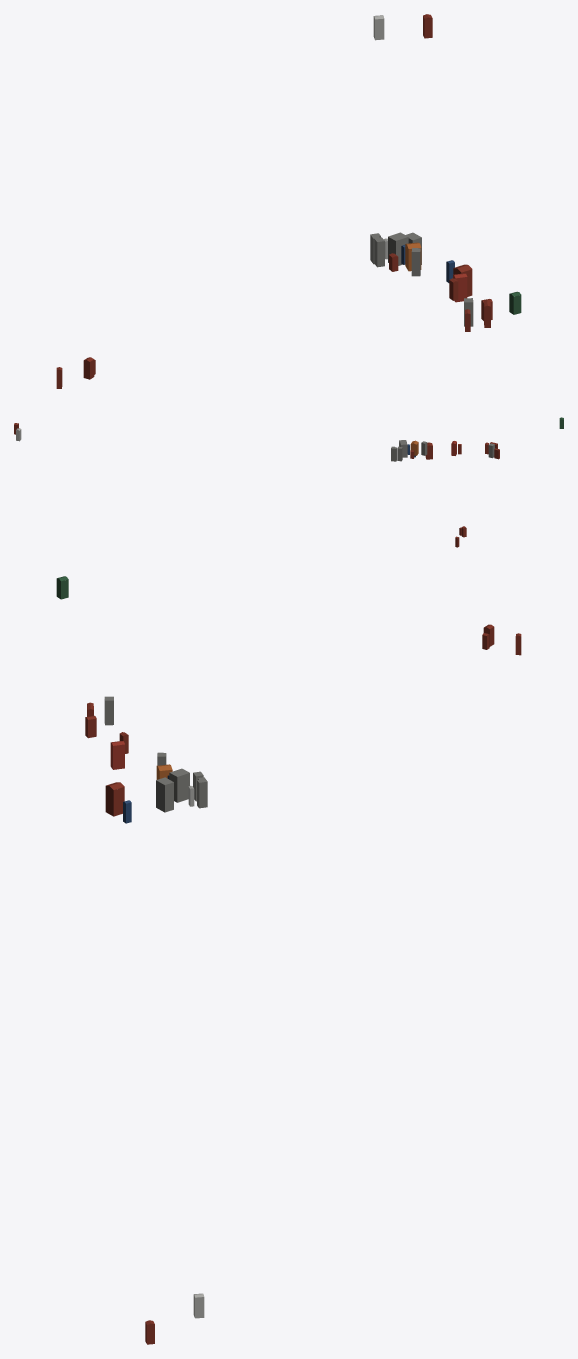
File: near-15-27359-14874.4d1c2376.glb
3 renders of one model, top to bottom at view 1: azimuth 90°, elevation 25°; view 2: azimuth 150°, elevation 25°; view 3: azimuth 270°, elevation 25°, orthographic. The views are drawn at different scales.
Bounding box in the file's own units: 1023 × 232 × 384.
